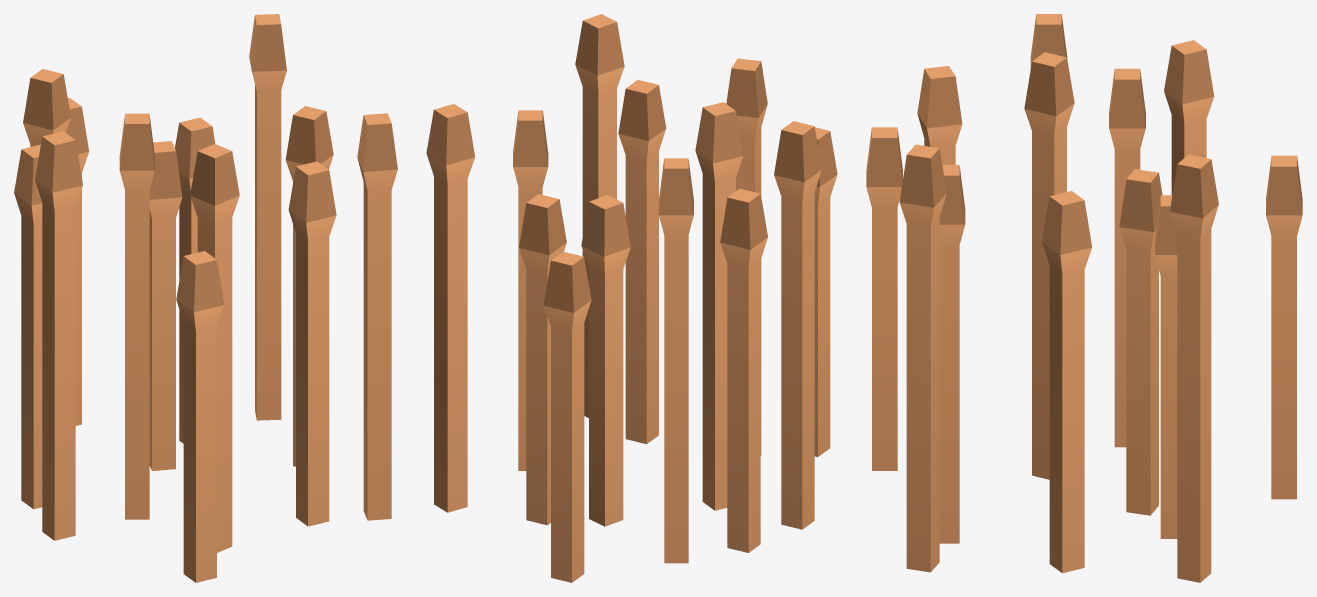
Rendered from wheat.obj.
3 views of the same model, side by side, from view 1: azimuth 30°, elevation 25°; view 2: azimuth 150°, elevation 25°; view 3: azimuth 270°, elevation 25° (orthographic). The views are drawn at different scales.
Parts seen in each view (by area): view 1: wheat; view 2: wheat; view 3: wheat.
Boxes of the visible parts, bbox=[...] form: wheat: bbox=[14, 14, 397, 582]; wheat: bbox=[426, 14, 837, 582]; wheat: bbox=[866, 14, 1302, 582].
Bounding box in the file's own units: 3.11 × 3.75 × 3.58.
